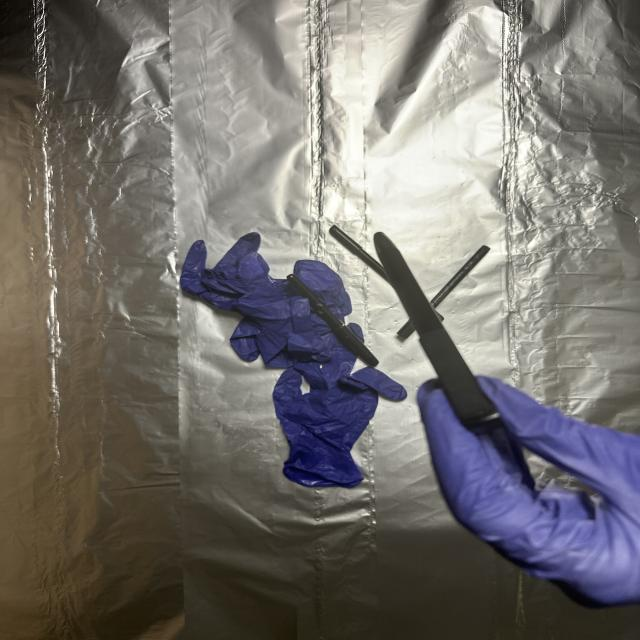gloves_contaminated: (418, 377, 640, 606)
